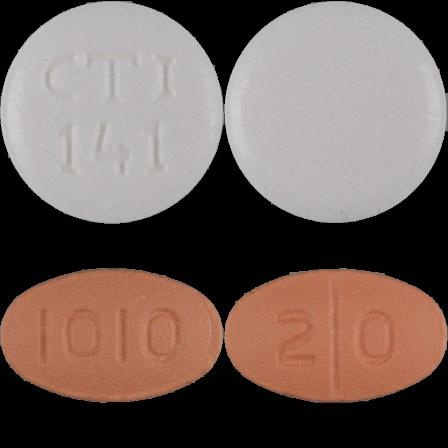42254-106: (0, 0, 224, 224)
